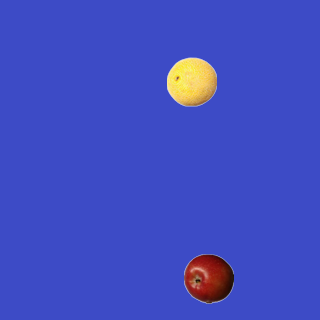Apple Braeburn: (183, 253, 233, 303)
Cantaloupe 1: (166, 56, 216, 106)
